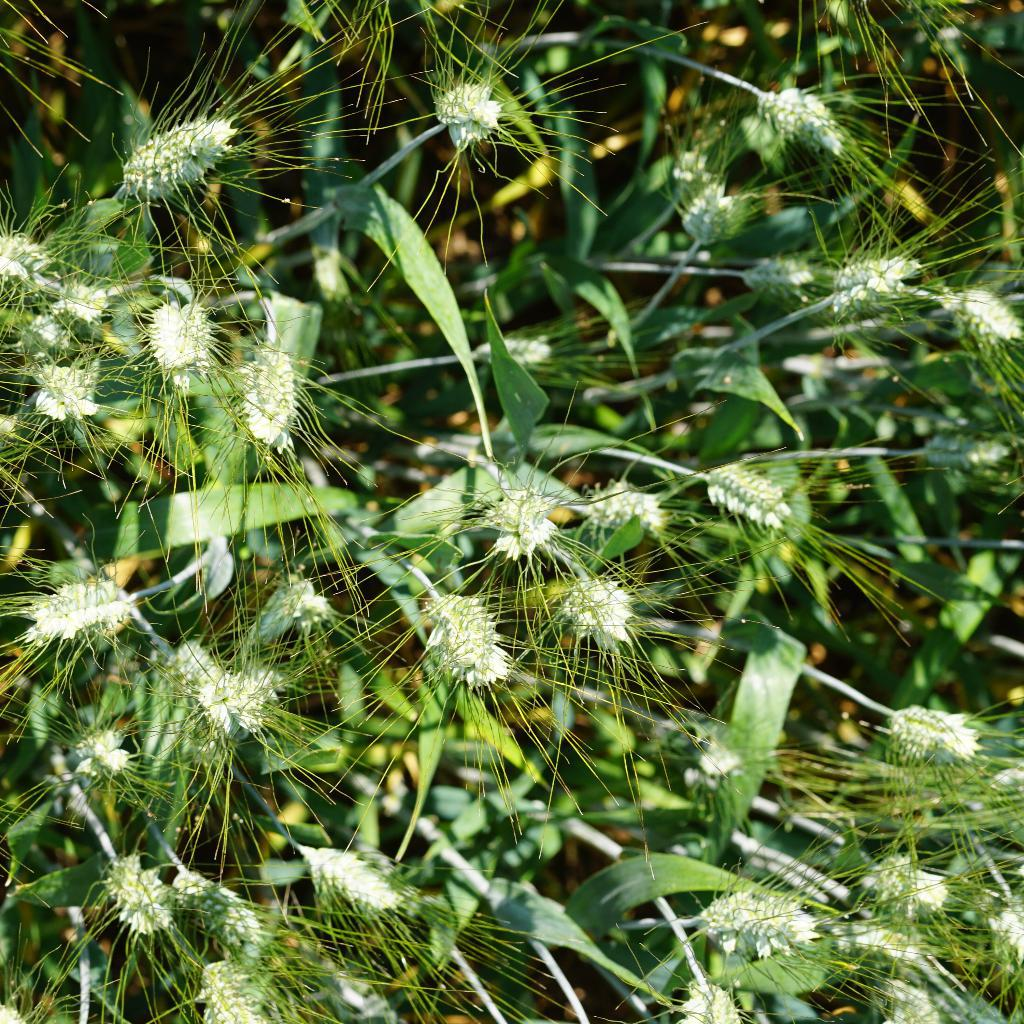0-0: (266, 815, 414, 908), (94, 107, 242, 194), (164, 849, 271, 961), (458, 470, 570, 567), (703, 867, 817, 960), (14, 564, 139, 646), (231, 331, 313, 452), (421, 589, 512, 688), (645, 706, 750, 791), (206, 662, 309, 746), (744, 73, 852, 152), (134, 290, 220, 385), (873, 684, 971, 766), (191, 952, 298, 1024), (683, 463, 784, 535), (96, 845, 179, 930), (923, 418, 1024, 486), (672, 164, 757, 243), (834, 914, 942, 975), (421, 70, 512, 142), (474, 311, 574, 376), (18, 342, 97, 422), (940, 277, 1024, 351), (828, 236, 915, 305), (564, 576, 643, 651), (33, 283, 116, 354), (851, 848, 948, 908), (582, 478, 675, 537), (257, 567, 335, 632), (71, 718, 139, 781), (0, 212, 49, 283), (742, 253, 817, 299), (175, 632, 220, 684)
